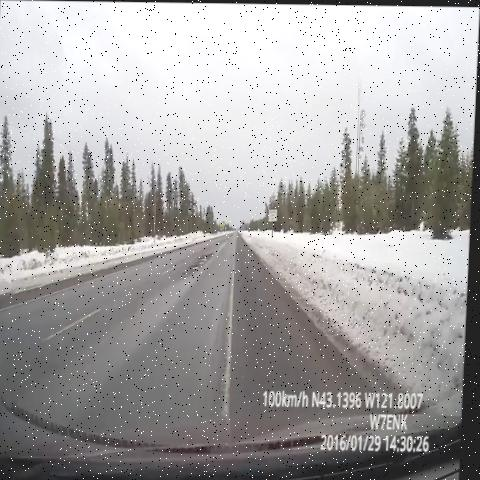pothole: (181, 245, 222, 283), (223, 230, 239, 245)
